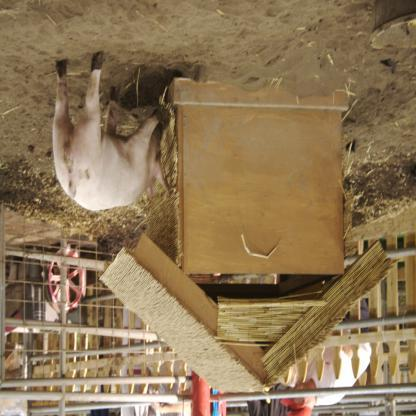boar: (53, 52, 171, 213)
